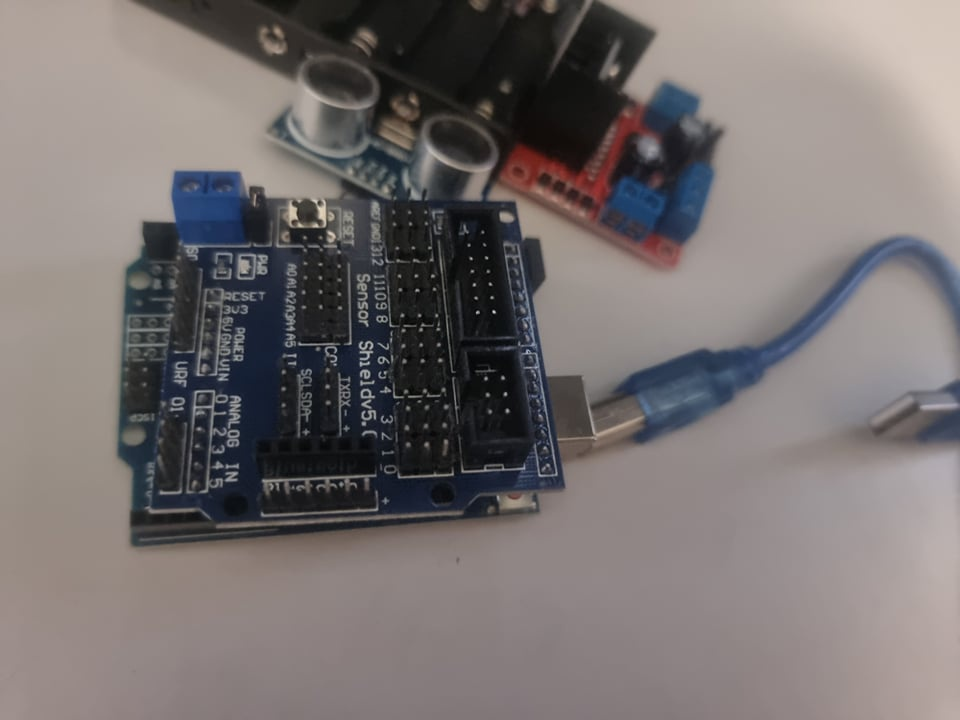5V EXPANSION: (169, 170, 547, 493)
MOTOR: (511, 3, 717, 263)
SENSOR: (277, 59, 489, 208)
